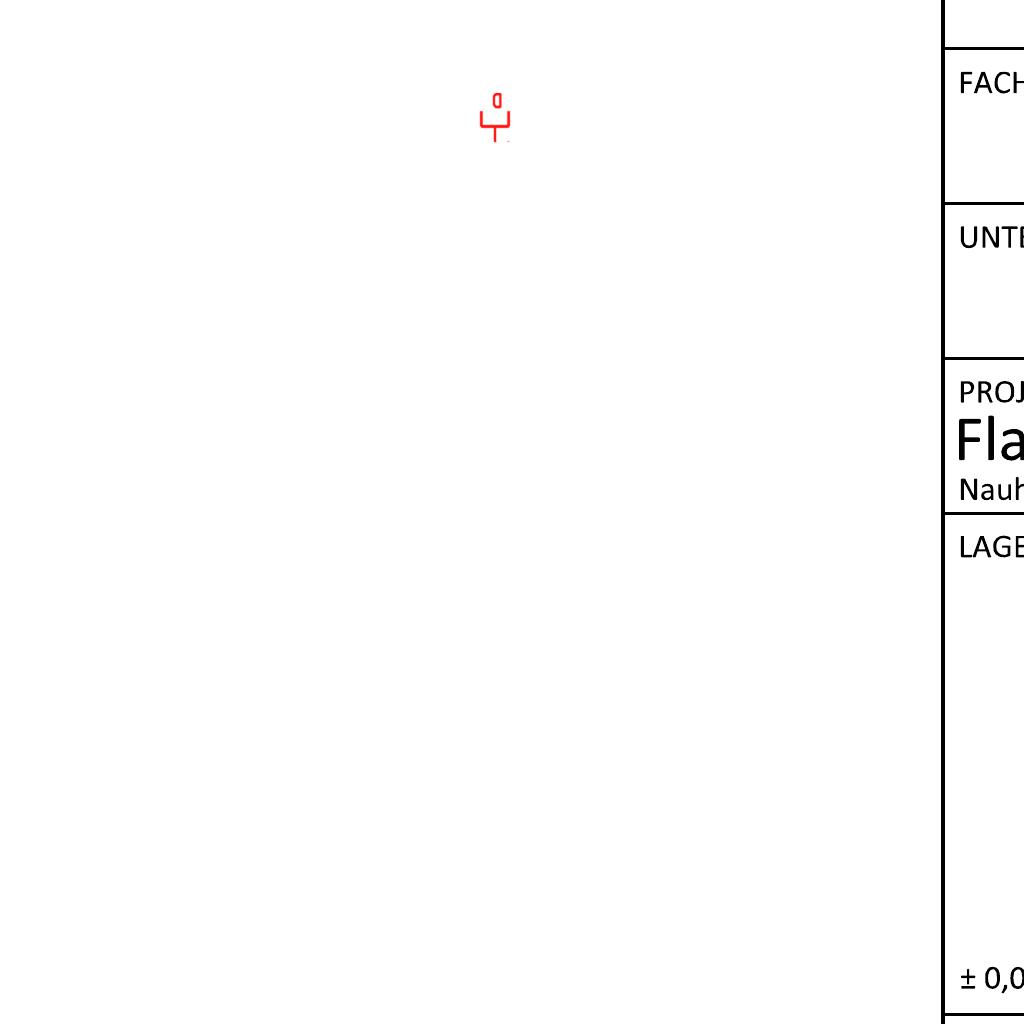Datenanschluss_einfach: (478, 93, 512, 143)
